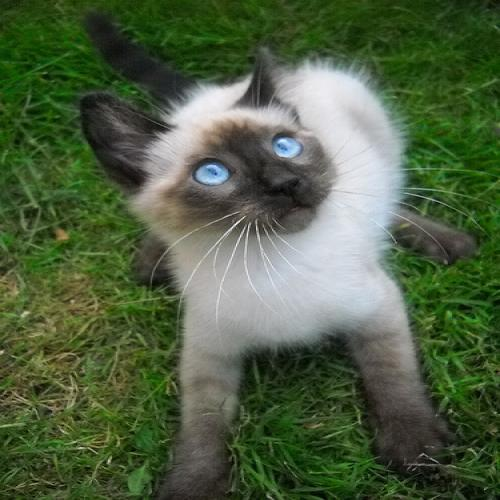siamese: (72, 47, 390, 270)
